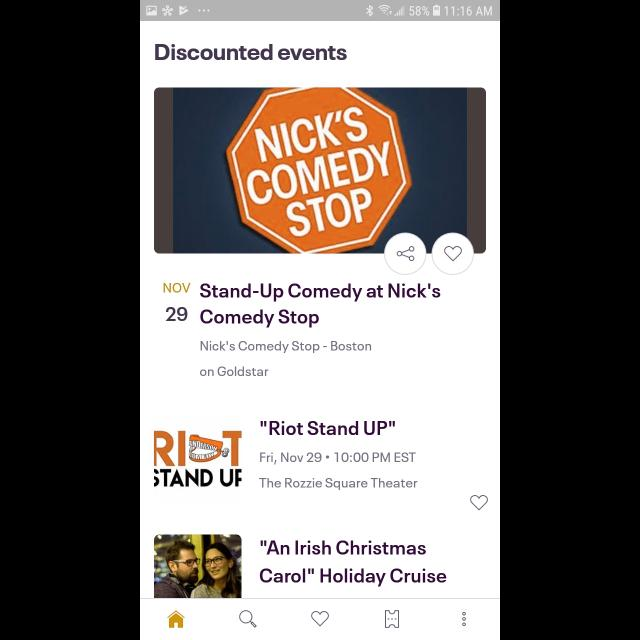icon: (384, 232, 428, 276), (432, 232, 474, 276), (167, 610, 185, 628), (239, 610, 257, 628), (311, 610, 329, 626), (384, 610, 400, 628), (470, 495, 488, 511), (462, 612, 466, 626)
image: (154, 88, 486, 254), (154, 534, 242, 598), (154, 430, 242, 488)
text: (200, 284, 440, 328), (259, 540, 446, 588), (258, 452, 418, 491), (200, 340, 372, 376), (156, 44, 348, 60), (260, 420, 396, 436), (166, 306, 188, 322), (163, 283, 190, 293)
uppertaskbar: (140, 1, 500, 22)
